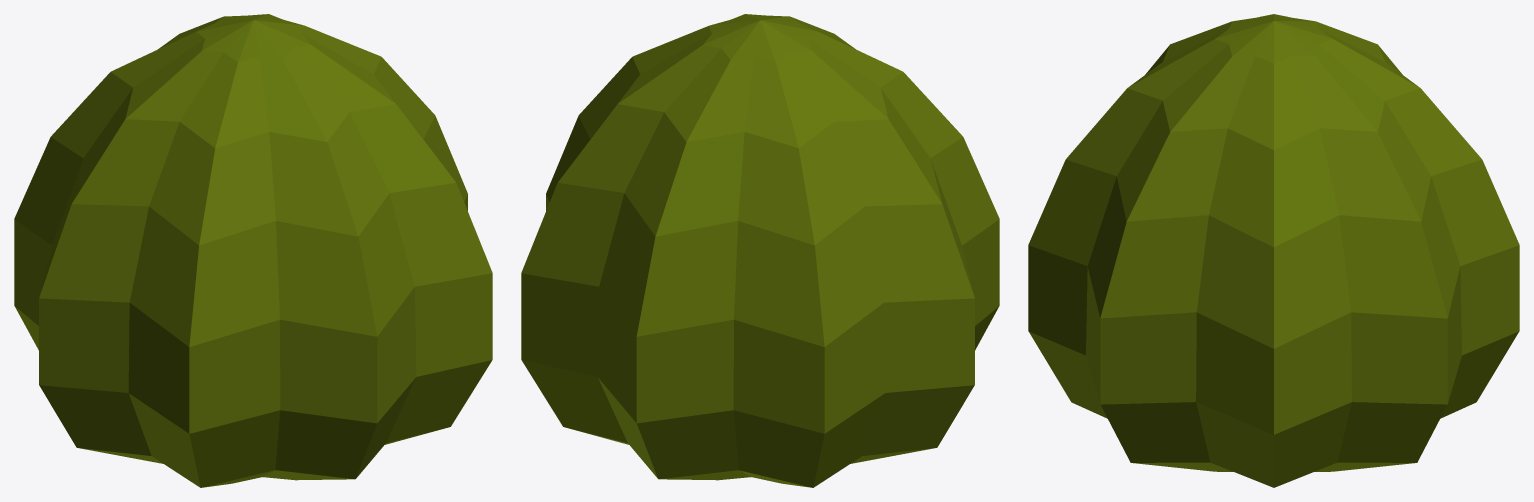
The model's file is Cactus_14_A.fbx.
3 views of the same model, side by side, from view 1: azimuth 30°, elevation 25°; view 2: azimuth 150°, elevation 25°; view 3: azimuth 270°, elevation 25° (orthographic).
Visible parts, largest first — view 1: Cactus_14_A; view 2: Cactus_14_A; view 3: Cactus_14_A.
Boxes of the visible parts, bbox=[...] form: Cactus_14_A: bbox=[14, 14, 492, 487]; Cactus_14_A: bbox=[521, 14, 999, 487]; Cactus_14_A: bbox=[1028, 14, 1519, 487].
Bounding box in the file's own units: 150 × 149 × 150.
